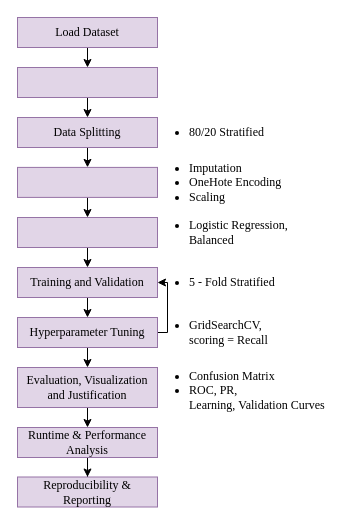
Some shapes in this 345 by 525 pixel diagram are drawn without their labels. The centre of each missing label's shape, as x and y in pixels:
"Baseline Model" goes at (x=87, y=232).
"Exploratory Data Analysis" goes at (x=87, y=82).
"Preprocessing" goes at (x=87, y=181).
